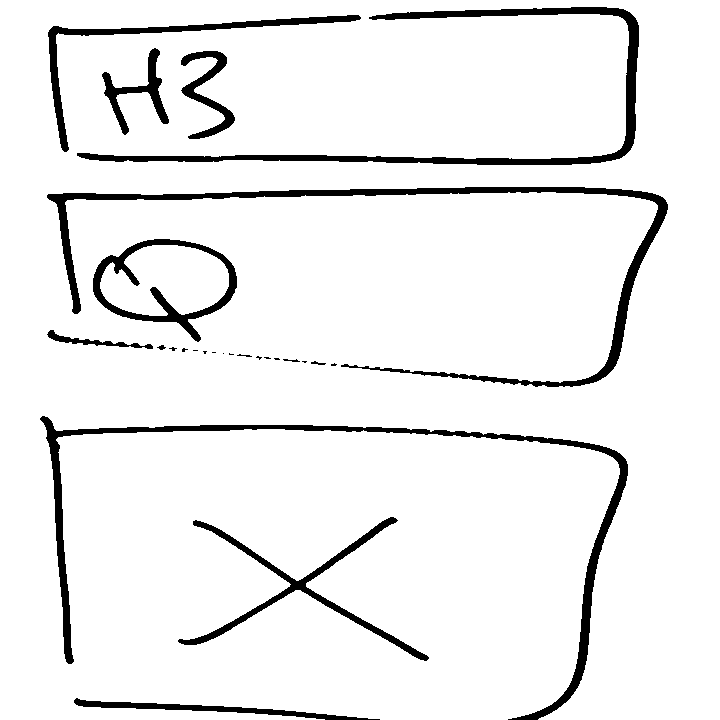heading3: (33, 4, 647, 173)
picture: (32, 412, 646, 717)
search bar: (39, 181, 673, 397)
